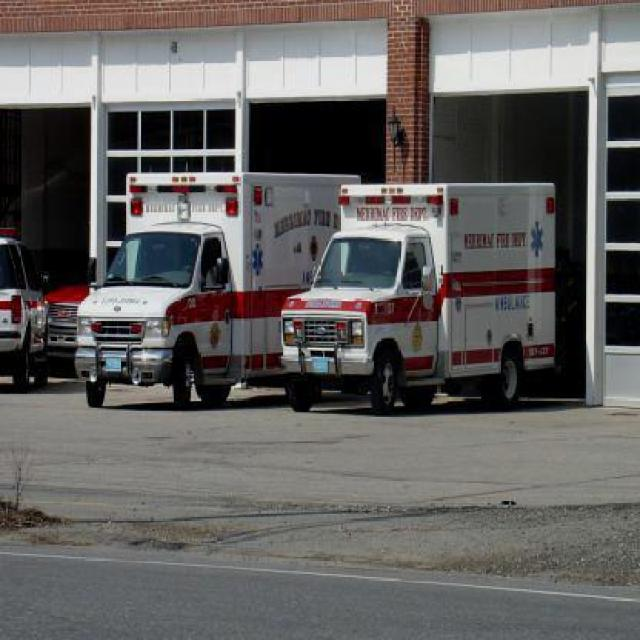Ambulance: (273, 140, 575, 419), (94, 167, 327, 411)
